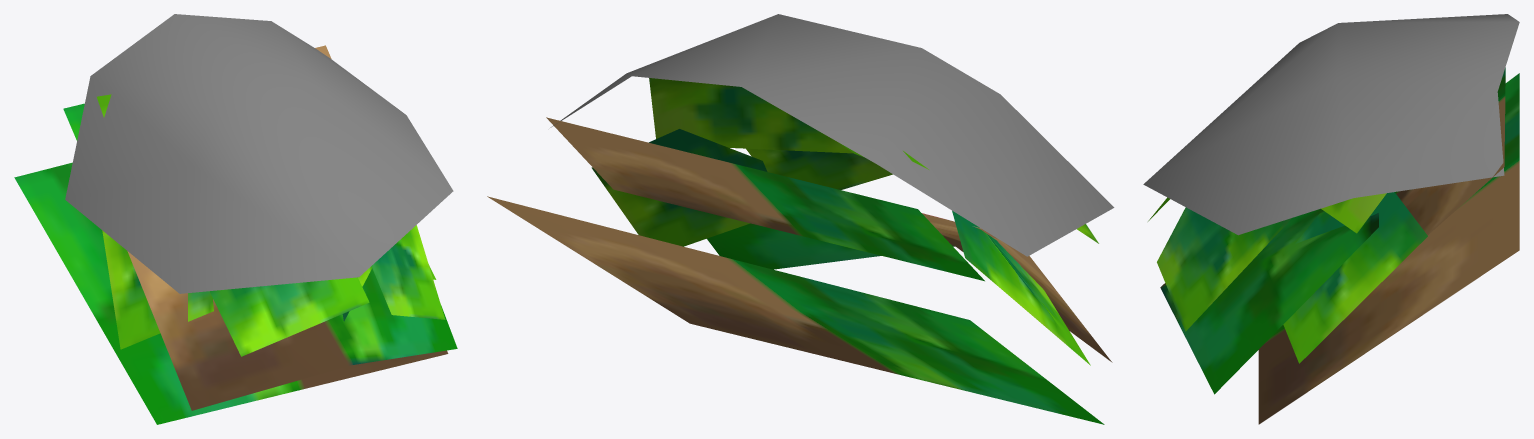
Rendered from fg_bushB_2_s.dae.
3 views of the same model, side by side, from view 1: azimuth 30°, elevation 25°; view 2: azimuth 150°, elevation 25°; view 3: azimuth 270°, elevation 25° (orthographic). The views are drawn at different scales.
Parts seen in each view (by area): view 1: fg_bushB_2_s; view 2: fg_bushB_2_s; view 3: fg_bushB_2_s.
Boxes of the visible parts, x1,y1,x2,y2 form: fg_bushB_2_s: (14, 14, 457, 424); fg_bushB_2_s: (487, 14, 1114, 424); fg_bushB_2_s: (1143, 14, 1519, 424).
Size of the model in its own units: 43.24 by 35.41 by 37.79.
1 material, 1 textured.
